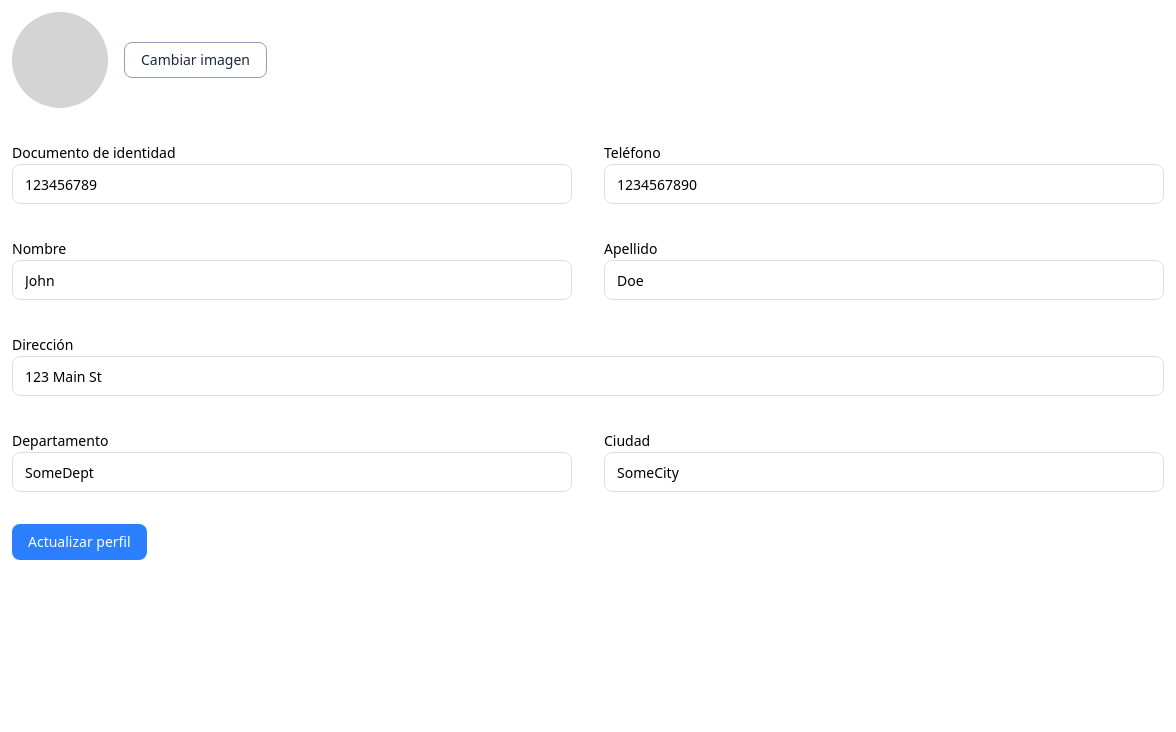
Scenario: ProfileForm › should show validation errors for invalid input
Clear the field labelled "Nombre" at (292, 280), box 12,260 -> 572,300
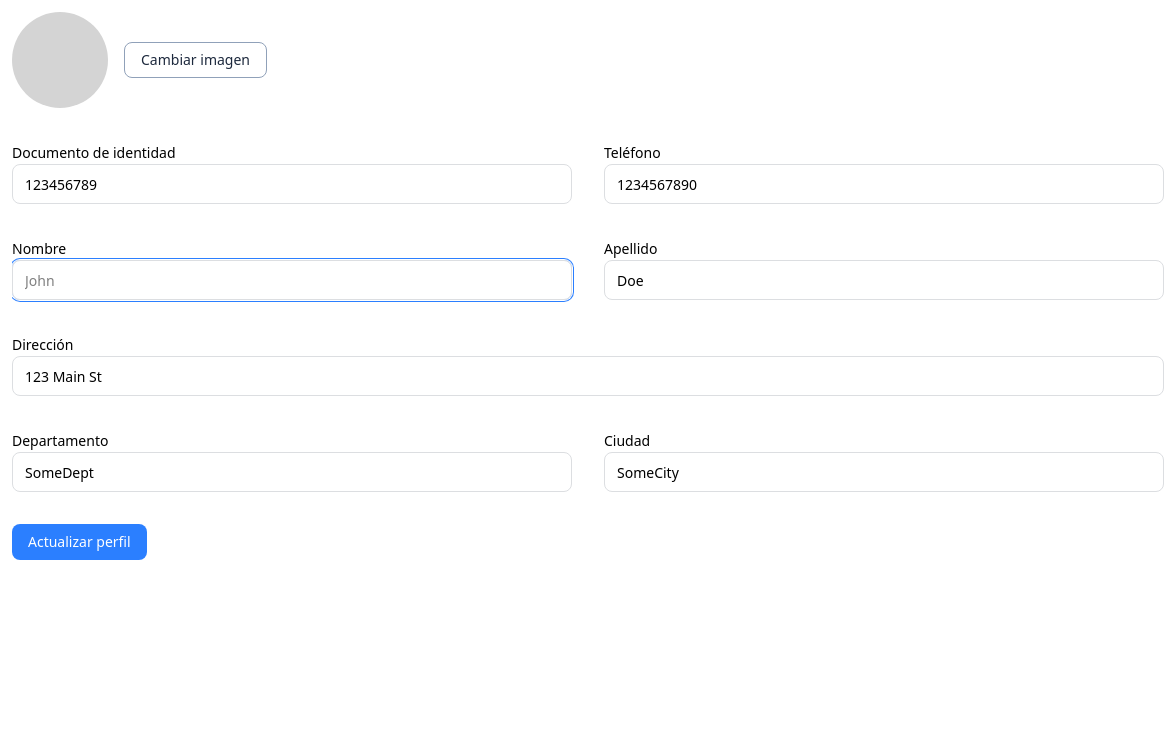
Click the button "Actualizar perfil" at (79, 542), box 12,524 -> 147,560
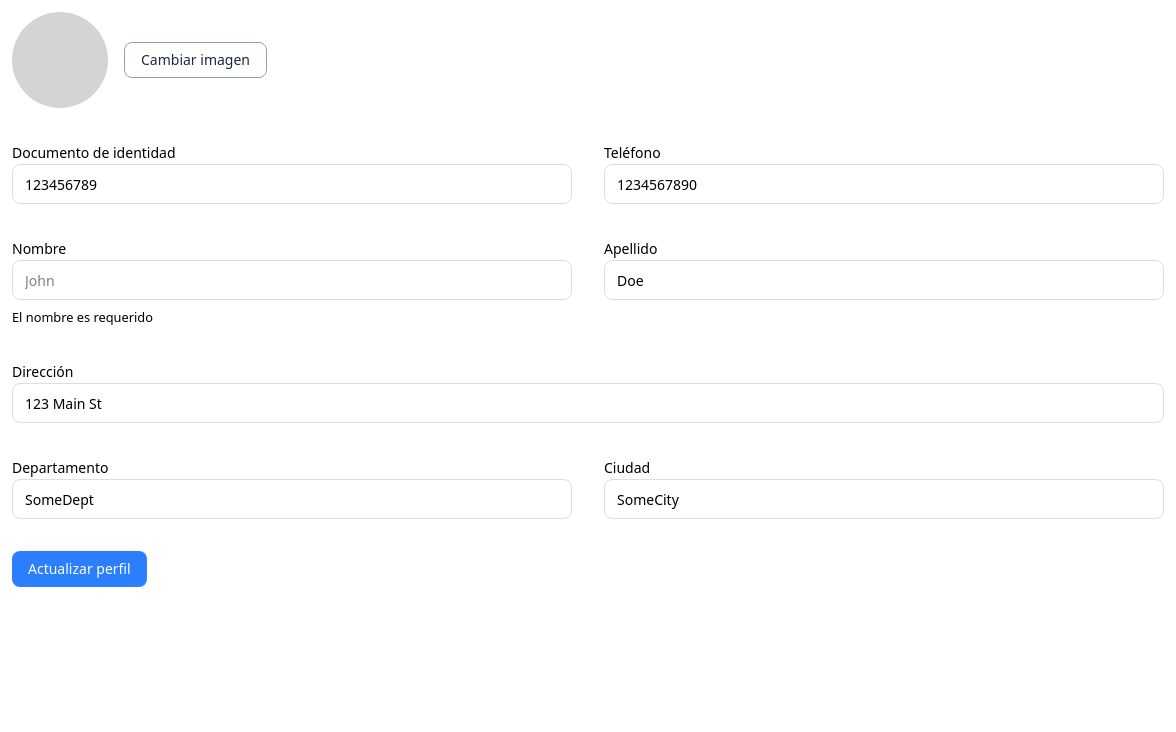
expect the text "El nombre es requerido" is shown: met, box 12,308 -> 153,326
